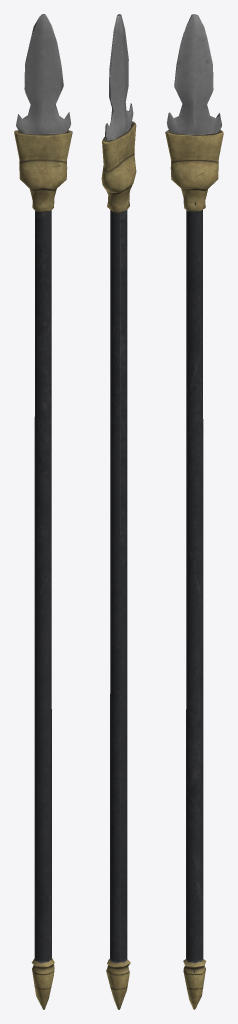
Rendered from SM_Weapons_Mesh_2.fbx.
3 views of the same model, side by side, from view 1: azimuth 90°, elevation 25°; view 2: azimuth 150°, elevation 25°; view 3: azimuth 270°, elevation 25° (orthographic).
Visible parts, largest first — view 1: SM_Weapons_Mesh_2_LOD0; view 2: SM_Weapons_Mesh_2_LOD0; view 3: SM_Weapons_Mesh_2_LOD0.
Part boxes in pixels (bbox=[...]): SM_Weapons_Mesh_2_LOD0: bbox=[14, 14, 72, 1009]; SM_Weapons_Mesh_2_LOD0: bbox=[101, 14, 136, 1009]; SM_Weapons_Mesh_2_LOD0: bbox=[165, 14, 223, 1009].
Size of the model in its own units: 16.89 by 32.63 by 611.
